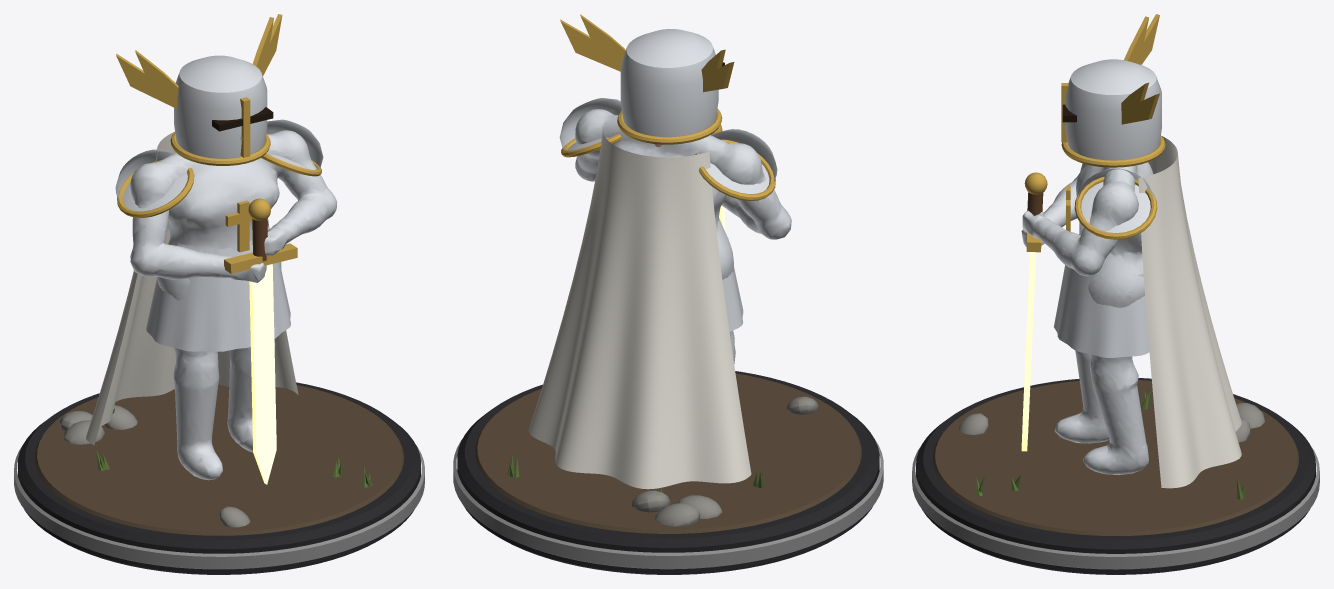
The model's file is paladin.glb.
The picture shows the model from 3 angles, left to right: view 1: azimuth 30°, elevation 25°; view 2: azimuth 150°, elevation 25°; view 3: azimuth 270°, elevation 25°; orthographic projection. The views are drawn at different scales.
Parts seen in each view (by area): view 1: paladin; view 2: paladin; view 3: paladin.
Part boxes in pixels (bbox=[...]): paladin: bbox=[14, 14, 424, 574]; paladin: bbox=[453, 14, 883, 574]; paladin: bbox=[912, 14, 1319, 574].
Bounding box in the file's own units: 0.856 × 1.02 × 0.856.
